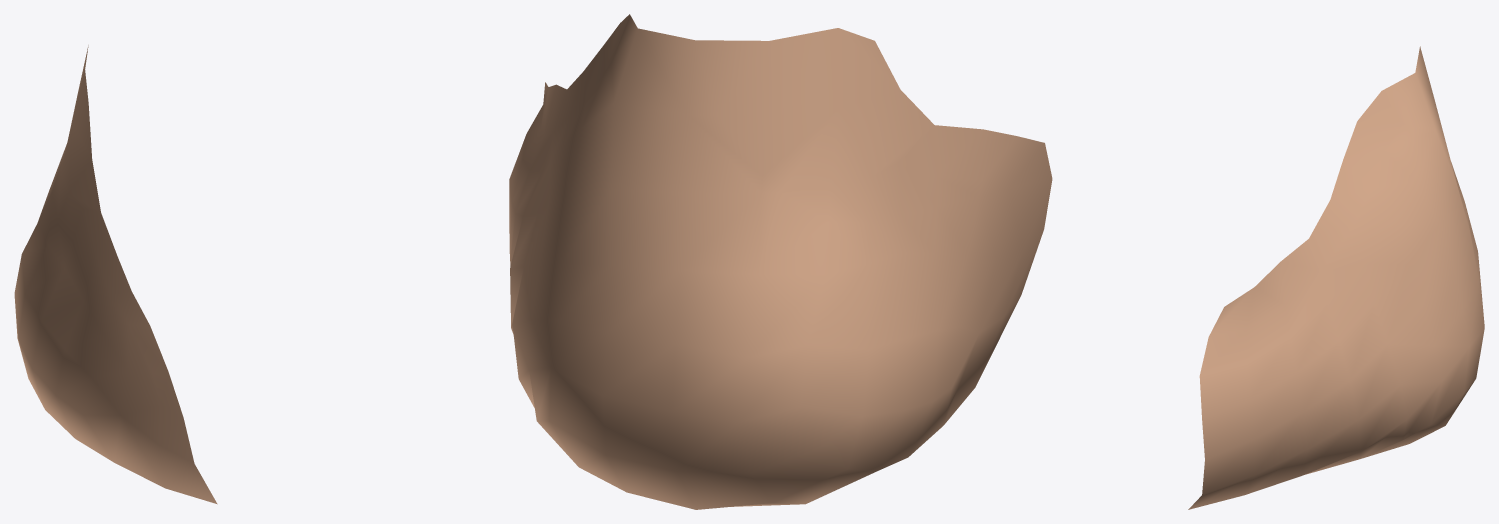
Rendered from heel-region-l.glb.
3 views of the same model, side by side, from view 1: azimuth 30°, elevation 25°; view 2: azimuth 150°, elevation 25°; view 3: azimuth 270°, elevation 25° (orthographic). The views are drawn at different scales.
Visible parts, largest first — view 1: Heel region.l; view 2: Heel region.l; view 3: Heel region.l.
Boxes of the visible parts, x1=… form: Heel region.l: x1=14, y1=45, x2=217, y2=504; Heel region.l: x1=509, y1=14, x2=1052, y2=509; Heel region.l: x1=1188, y1=46, x2=1484, y2=509.
Size of the model in its own units: 0.068 by 0.0676 by 0.0631.
